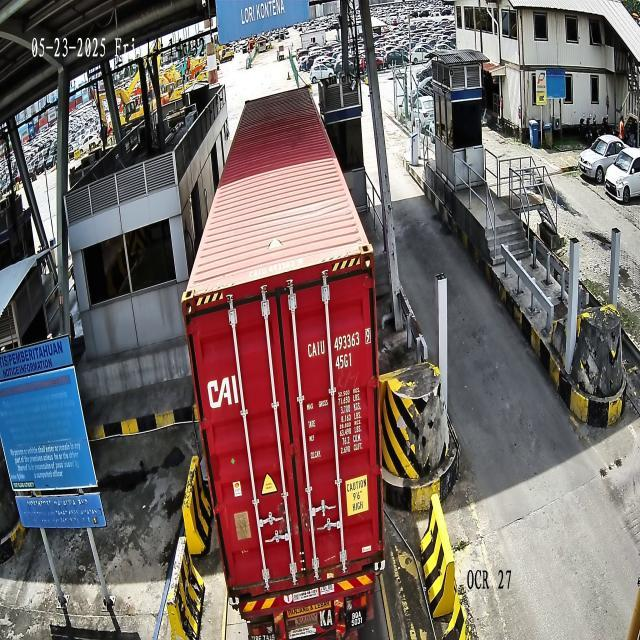ISO: (334, 352, 354, 372)
container_number: (308, 327, 370, 359)
